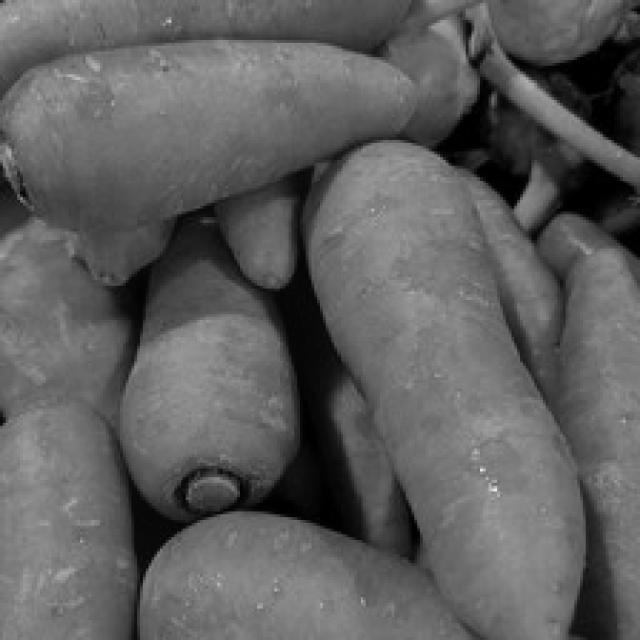Fresh_Carrot: (294, 143, 640, 637), (18, 39, 418, 177), (133, 242, 295, 509)
